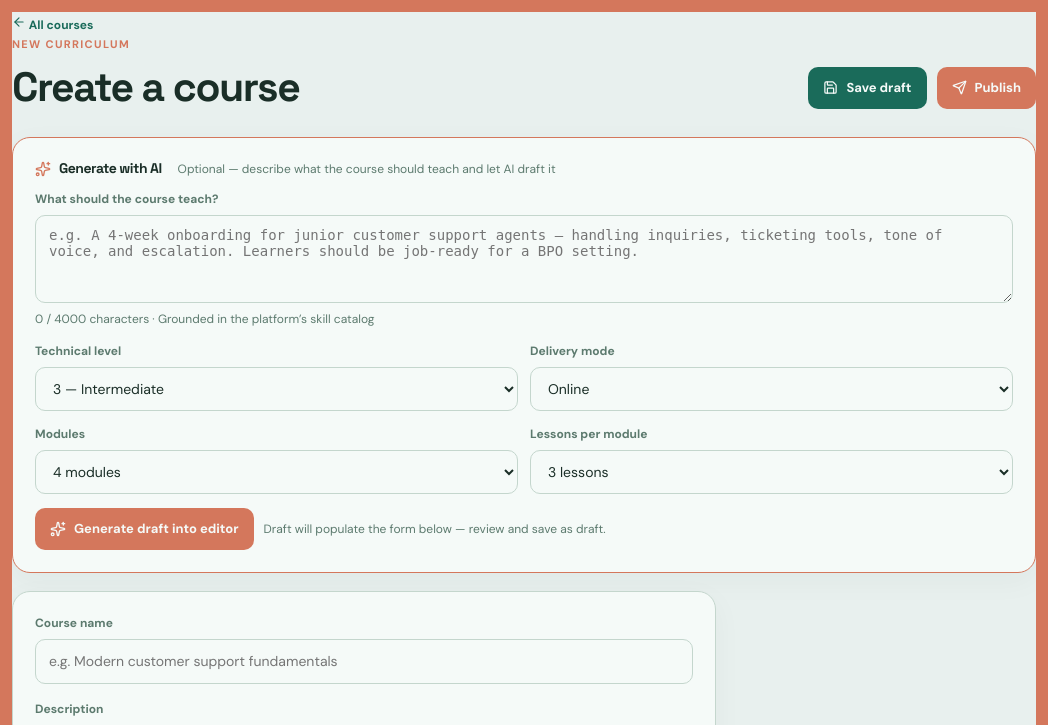
CourseManagementPage › CourseEditor - create mode AI generation › shows API error when generation fails
Expected: the heading "Generate with AI" is shown, 59,161 -> 162,176
Replace the text in the text box with placeholder "A 4-week onboarding for junior customer" with "test brief". click: {"x": 524, "y": 259}
box: 35,215 -> 1013,303
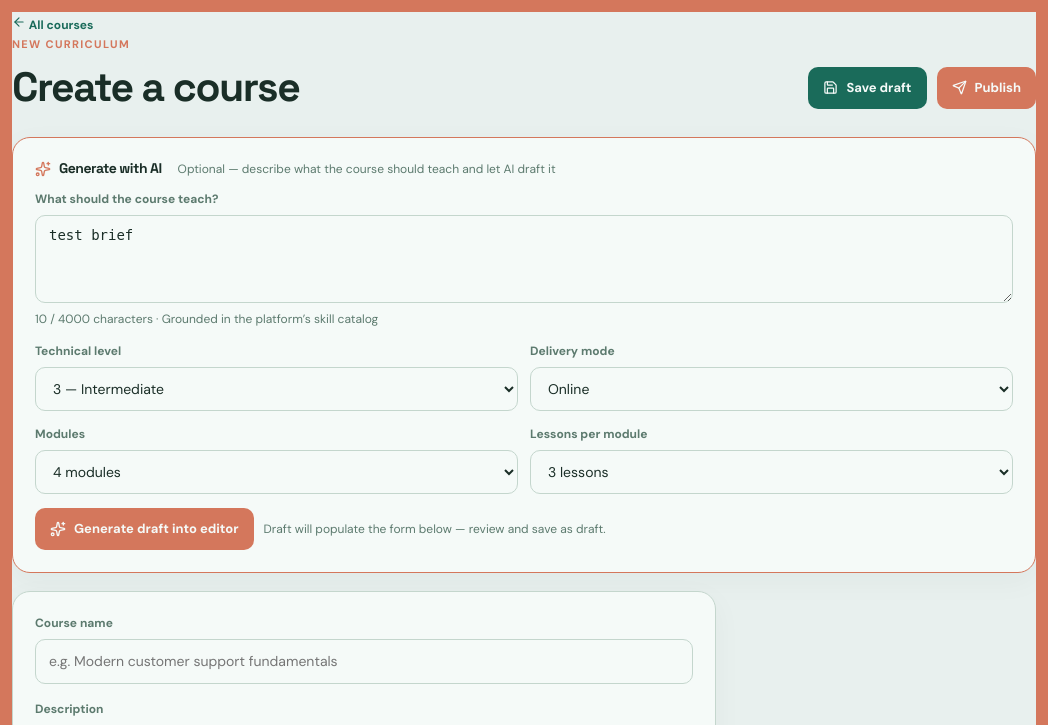
Click the button "Generate draft into editor". click: {"x": 144, "y": 529}
box: 35,508 -> 254,550
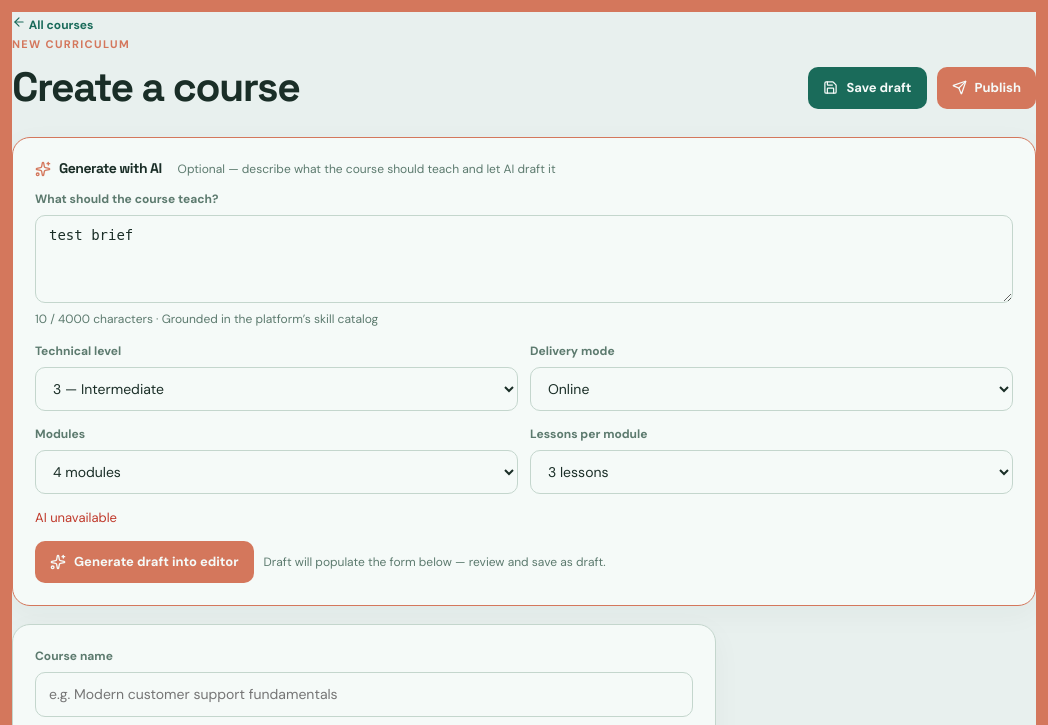
Expected: the text "AI unavailable" is shown, 35,509 -> 117,526
